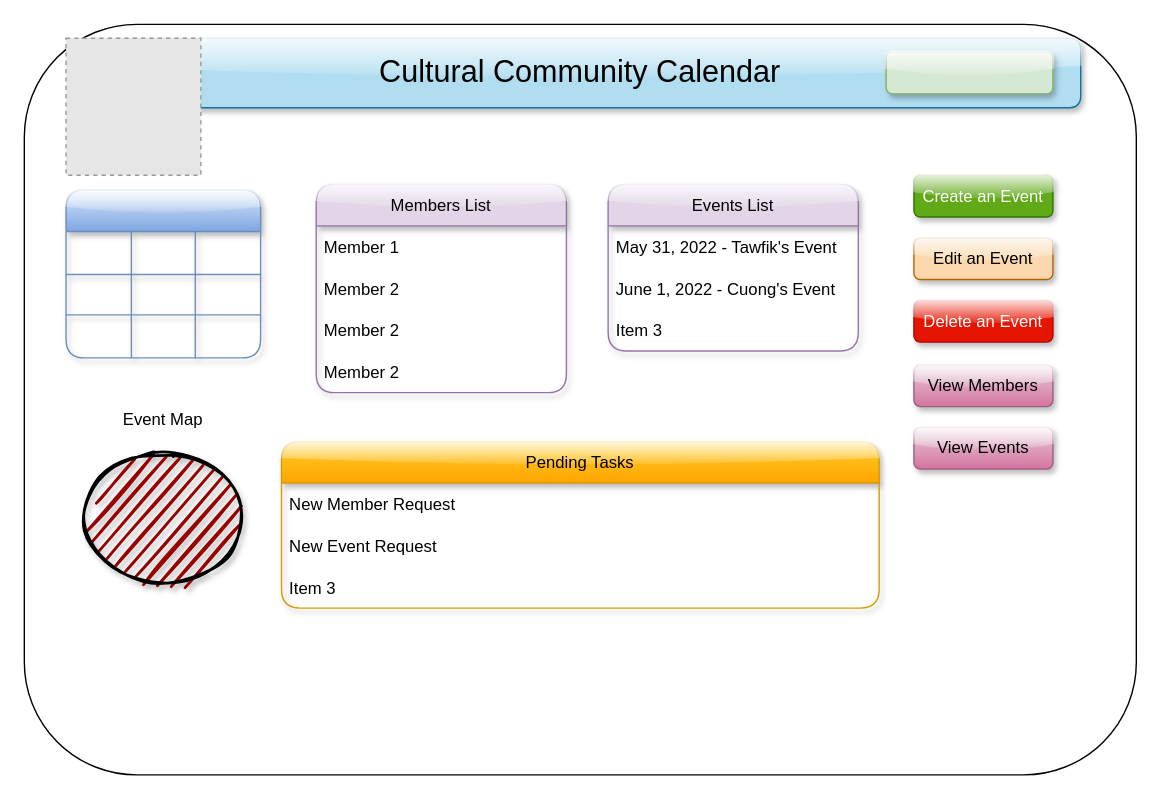
Image size: 1161x799. Some labels were removed from this diagram. Grey dashed boxes stand in for pictures. The shapes that lost their labels are listed below. From the top down, each one's centre as x and y in pixels, then its label:
At (970,74): "Welcome, Admin!".
At (164,275): "Event Calendar".
